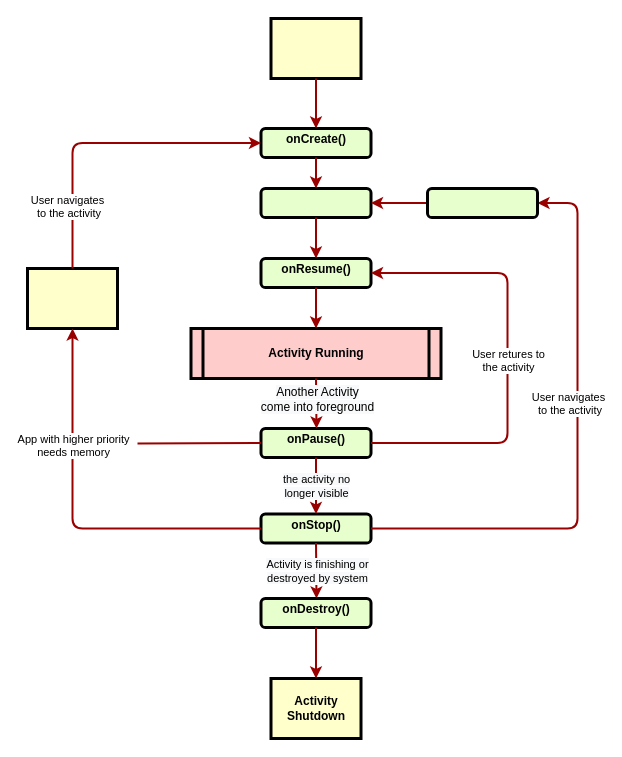
Image size: 622x757. Some labels were removed from this diagram. The shapes that lost their labels are listed below. From the top down, each one's centre as x and y in pixels, then its label:
At pixel 315 48: "Launch Activity".
At pixel 315 202: "onStart()".
At pixel 482 202: "onRestart()".
At pixel 72 298: "App process killed".
